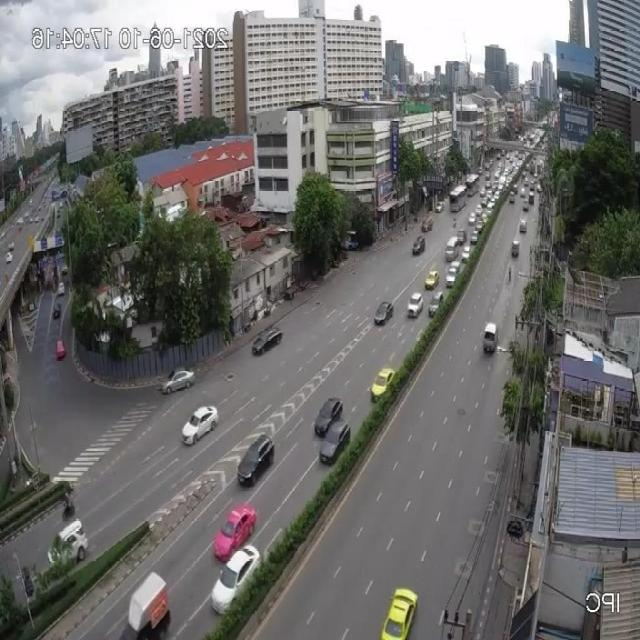Car: (211, 544, 261, 614), (213, 505, 257, 561), (237, 432, 275, 489), (379, 585, 418, 638), (48, 517, 88, 567), (181, 404, 219, 445), (318, 418, 351, 465), (314, 397, 344, 437), (251, 326, 283, 356), (161, 368, 195, 395), (371, 367, 395, 401), (374, 300, 393, 326), (428, 291, 444, 317), (407, 293, 423, 318), (448, 256, 461, 278), (412, 235, 426, 255), (425, 270, 439, 290), (445, 266, 458, 287), (56, 339, 66, 360), (421, 216, 433, 232), (455, 229, 466, 246), (461, 246, 471, 264), (511, 238, 520, 256), (52, 303, 61, 319), (470, 228, 479, 244), (434, 200, 444, 213), (519, 217, 527, 233), (468, 212, 476, 228), (57, 281, 65, 296), (5, 252, 13, 264), (522, 198, 529, 211), (509, 191, 515, 203), (536, 182, 542, 194), (520, 187, 526, 199), (61, 266, 68, 276)
Van: (128, 571, 171, 636), (483, 322, 497, 353), (446, 236, 460, 259)
